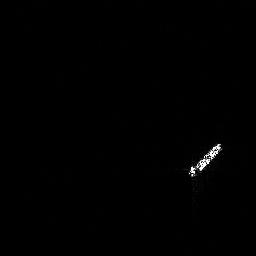ship: (184, 139, 226, 179)
